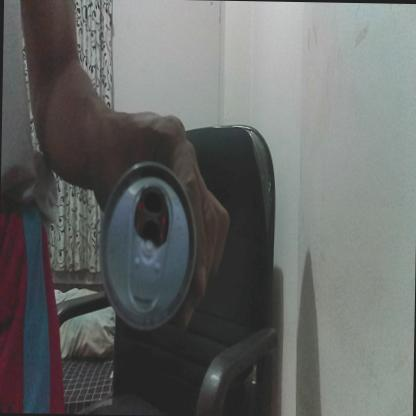alumunium_can: (97, 153, 200, 330)
